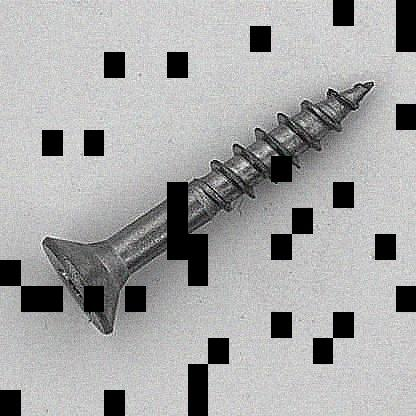metal: (40, 77, 376, 339)
